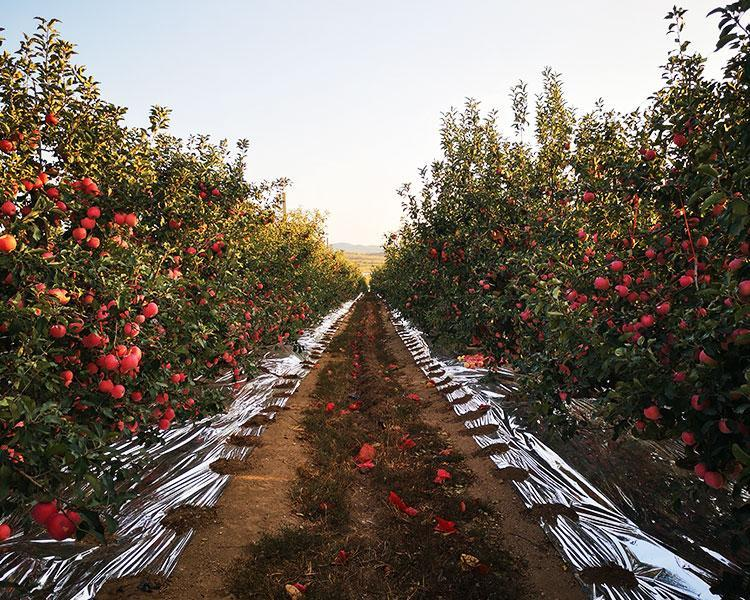apple: (48, 513, 73, 539), (1, 201, 19, 216), (85, 206, 102, 220)
